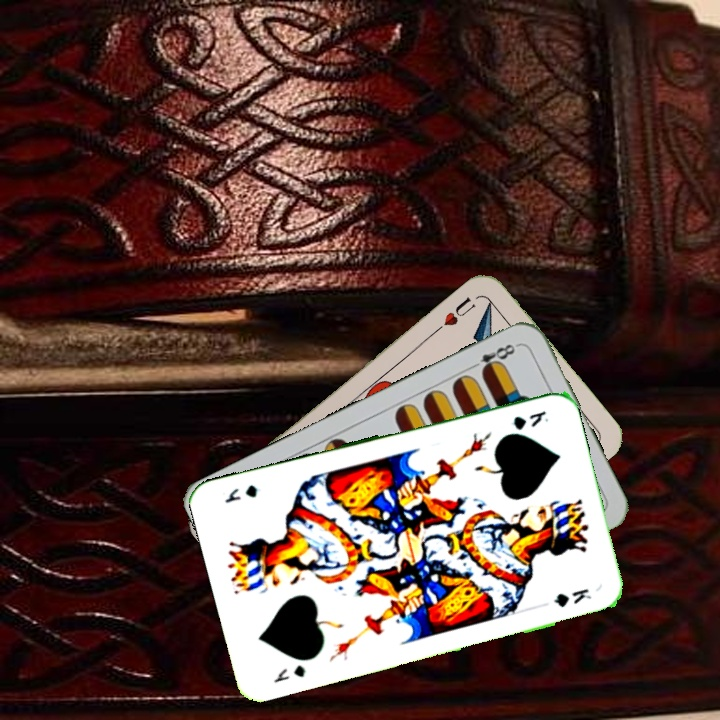E8: (466, 340, 523, 377)
GK: (509, 406, 551, 433), (269, 660, 308, 686)
HU: (432, 292, 479, 334)
